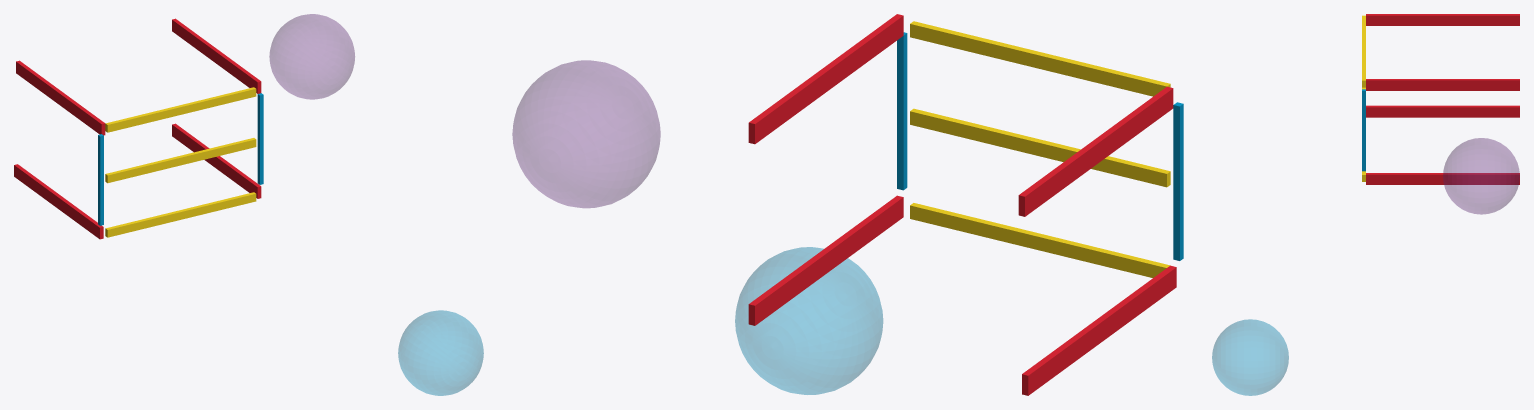
The model's file is tinker.obj.
3 renders of one model, left to right at view 1: azimuth 30°, elevation 25°; view 2: azimuth 150°, elevation 25°; view 3: azimuth 270°, elevation 25°, orthographic. The views are drawn at different scales.
Visible parts, largest first — view 1: group_0_-1040146473, group_0_-1031913576, group_0_15277357, group_0_16768282, group_0_40919; view 2: group_0_-1031913576, group_0_15277357, group_0_-1040146473, group_0_16768282, group_0_40919; view 3: group_0_15277357, group_0_-1040146473, group_0_-1031913576, group_0_16768282, group_0_40919.
Part boxes in pixels (x1,y1,x2,y2): group_0_-1040146473: [398, 310, 483, 395]; group_0_-1031913576: [269, 14, 354, 99]; group_0_15277357: [14, 18, 261, 239]; group_0_16768282: [105, 87, 256, 237]; group_0_40919: [98, 93, 263, 225]; group_0_-1031913576: [512, 60, 660, 207]; group_0_15277357: [748, 14, 1176, 395]; group_0_-1040146473: [735, 247, 882, 394]; group_0_16768282: [910, 21, 1170, 277]; group_0_40919: [897, 32, 1183, 260]; group_0_15277357: [1366, 14, 1519, 184]; group_0_-1040146473: [1212, 319, 1288, 395]; group_0_-1031913576: [1443, 138, 1519, 214]; group_0_16768282: [1362, 15, 1365, 181]; group_0_40919: [1362, 89, 1365, 171].
Size of the model in its own units: 85 by 75 by 80.
